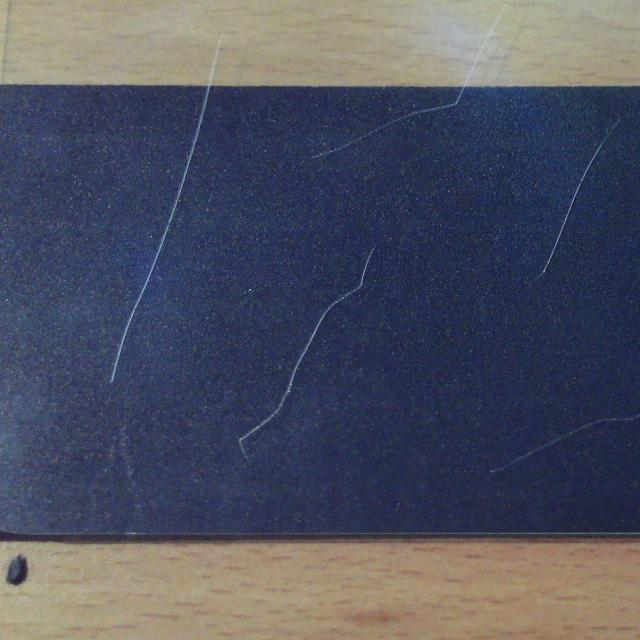defect: (111, 87, 213, 382), (238, 248, 376, 458), (536, 116, 623, 282), (316, 88, 466, 158), (493, 410, 639, 471)
